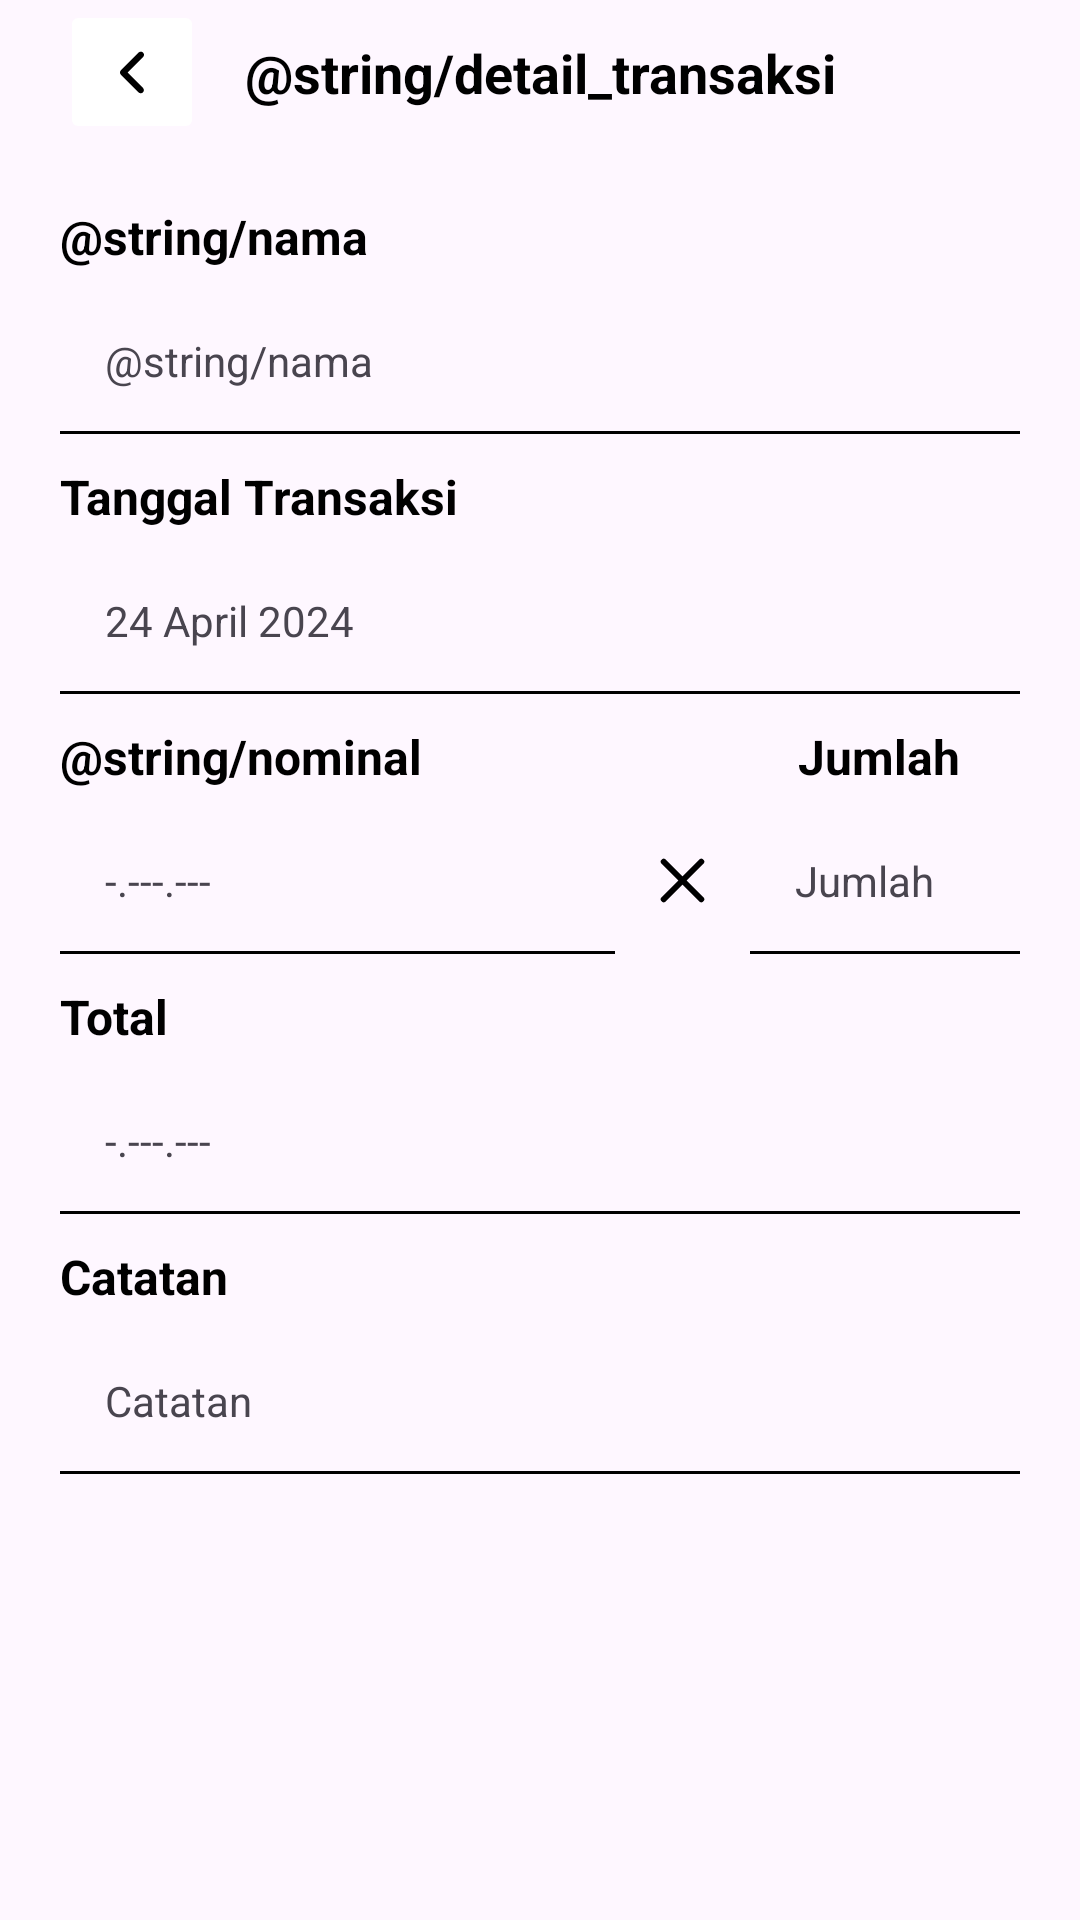

Named icons in this screenshot (1080*1920) and their bounding boxes, (x1, y1, x2, y2):
back: (120, 51, 144, 94)
